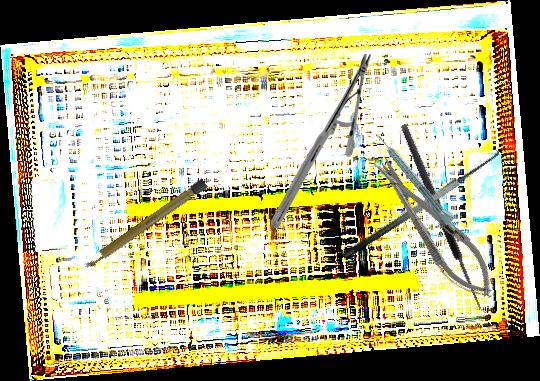Handpiece: (374, 128, 463, 234)
Hook Surgical: (398, 119, 497, 316)
Micro Scissor: (361, 145, 508, 312)
Needle Holder: (364, 151, 506, 307), (271, 54, 371, 228)
Scalpel Handle: (82, 178, 208, 271)
Spatula Surgical: (333, 140, 505, 261)
